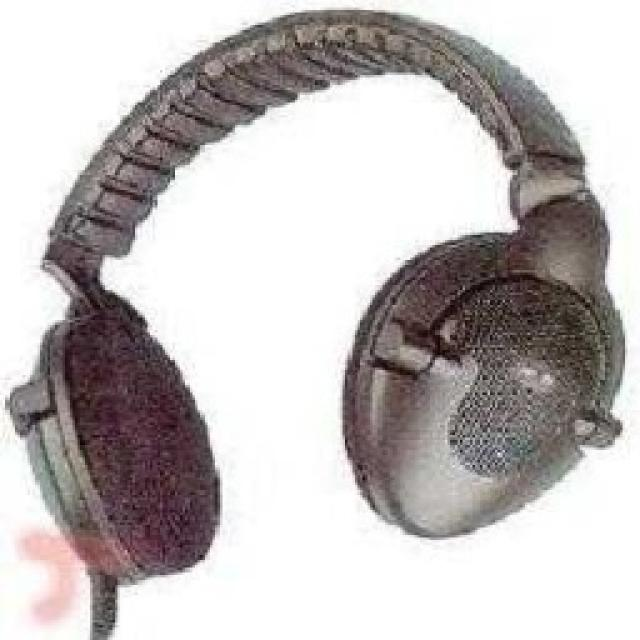kulaklik: (6, 3, 632, 620)
